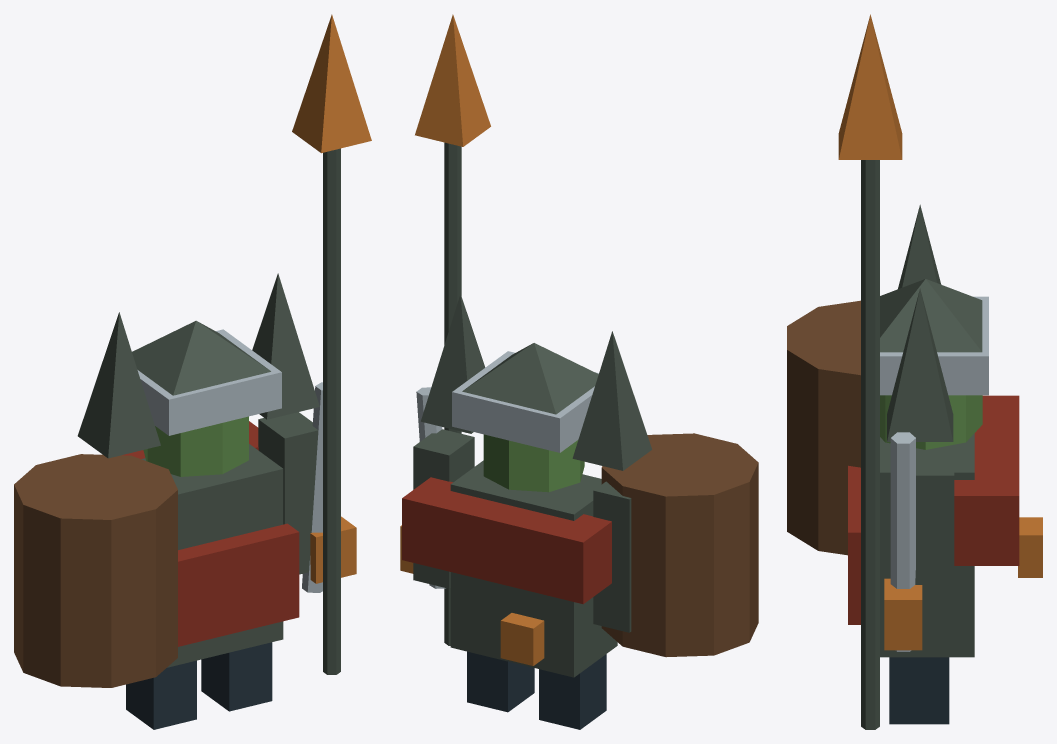
The model's file is pikeman.obj.
3 views of the same model, side by side, from view 1: azimuth 30°, elevation 25°; view 2: azimuth 150°, elevation 25°; view 3: azimuth 270°, elevation 25° (orthographic). The views are drawn at different scales.
Visible parts, largest first — view 1: infantry; view 2: infantry; view 3: infantry.
Boxes of the visible parts, <box> form: infantry: <box>14,14,371,729</box>; infantry: <box>400,14,758,729</box>; infantry: <box>787,14,1042,729</box>.
Size of the model in its own units: 1.54 by 2.95 by 0.9273.
